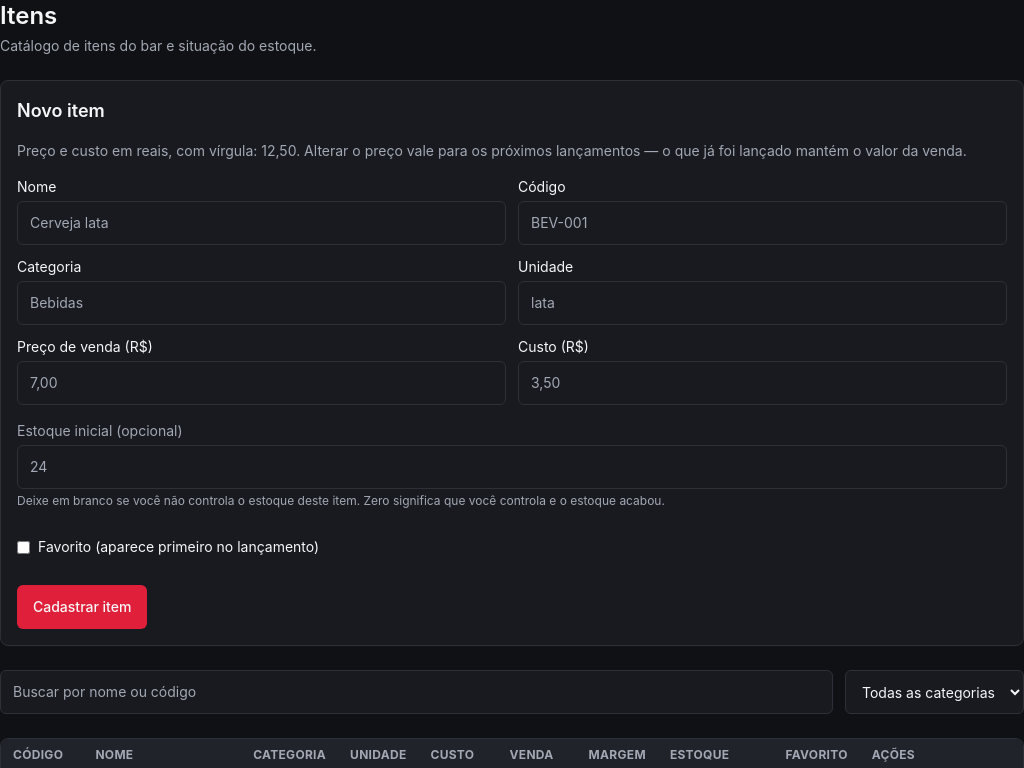
Test: CatalogView item registration › shows the domain refusal for a blank name, without inventing its own rule
The image size is (1024, 768).
Step 1. Clear the field labelled "Nome" → (262, 223), box [17,201,506,245]
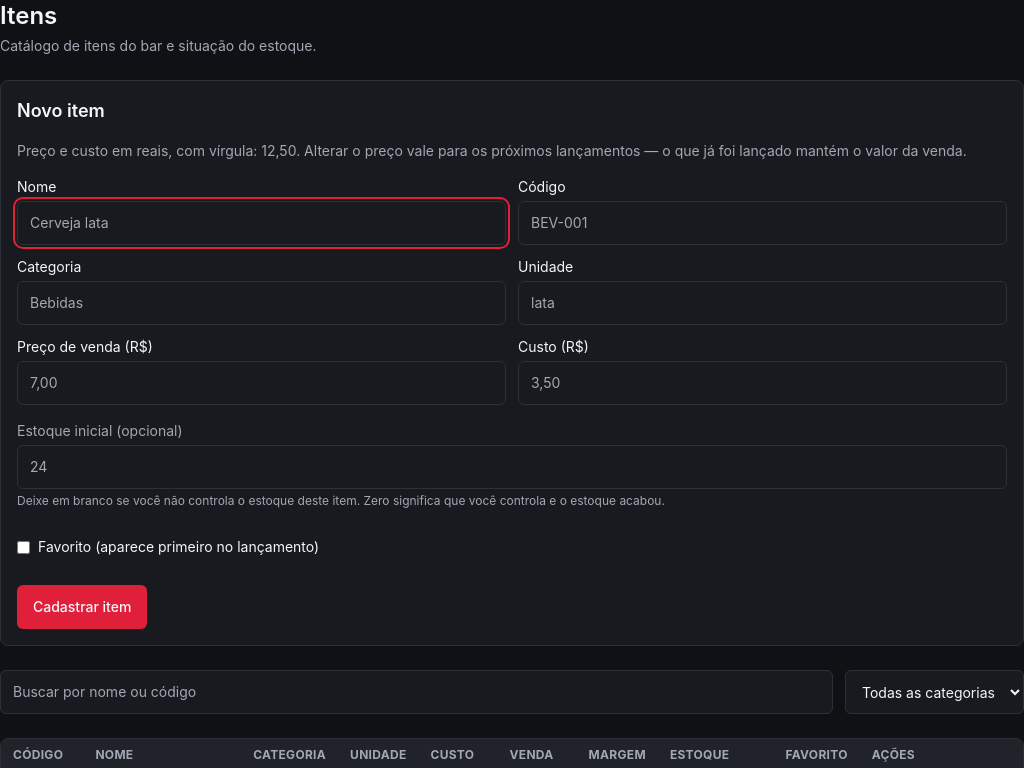
Step 2. Type "5" into the field labelled "Preço de venda (R$)" → (262, 383), box [17,361,506,405]
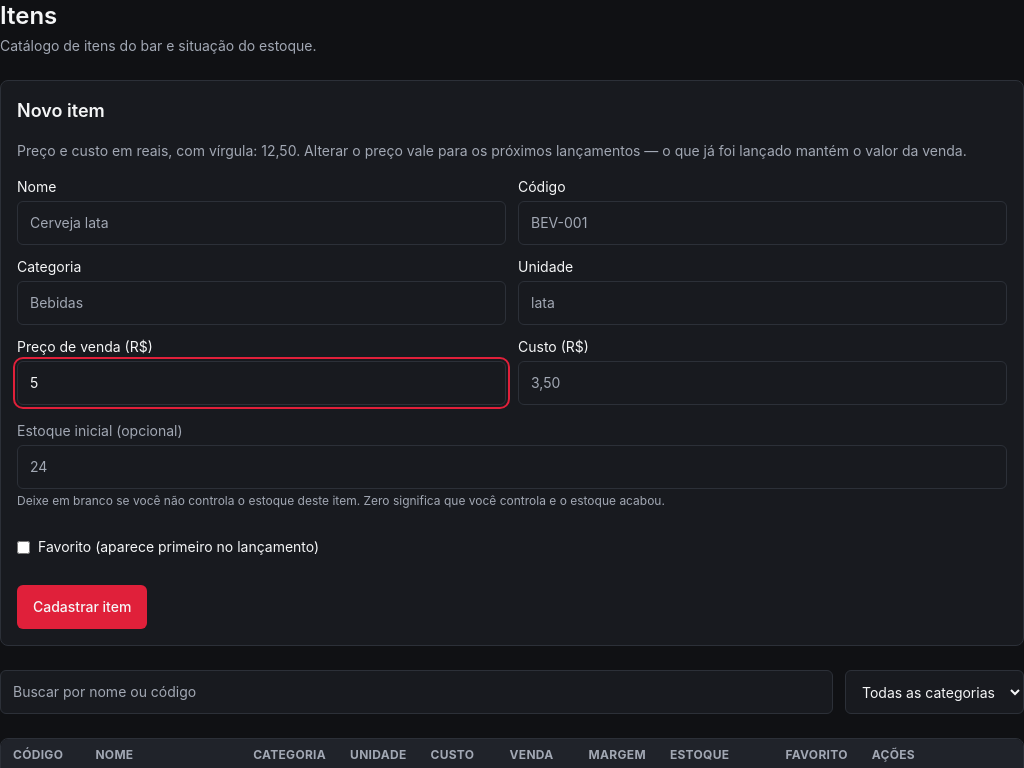
Step 3. Type "2" into the field labelled "Custo (R$)" → (762, 383), box [518,361,1007,405]
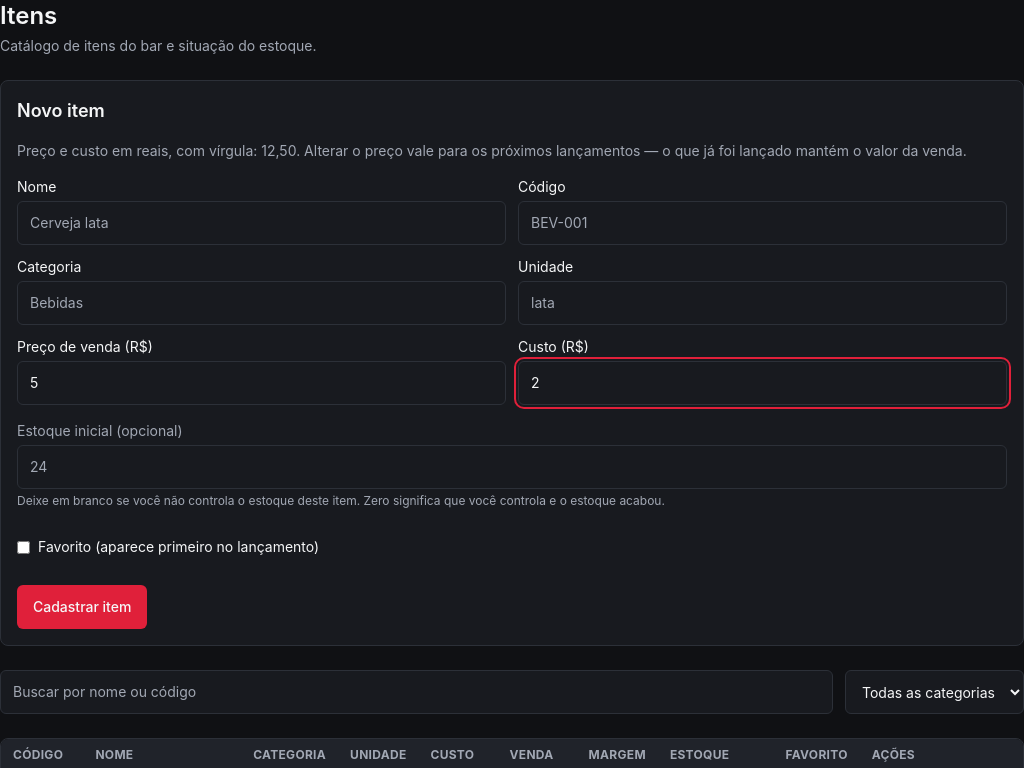
Step 4. Click the button "Cadastrar item" → (82, 607), box [17,585,147,629]
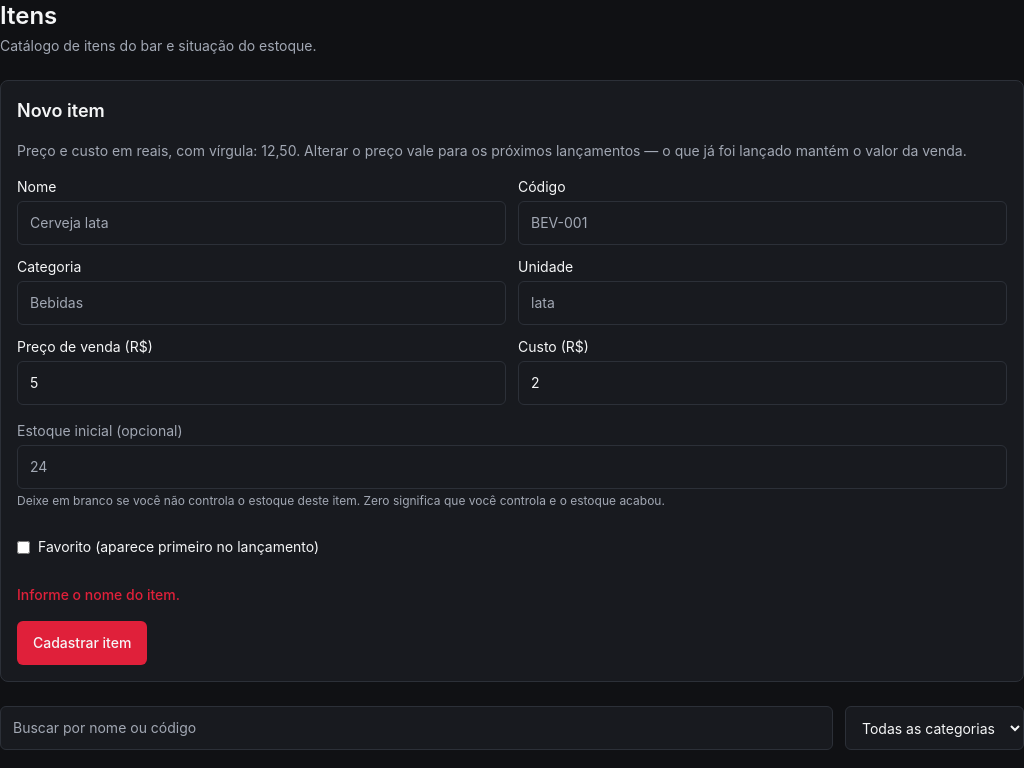
Expected: the message reads "Informe o nome do item.", [17,586,180,603]
